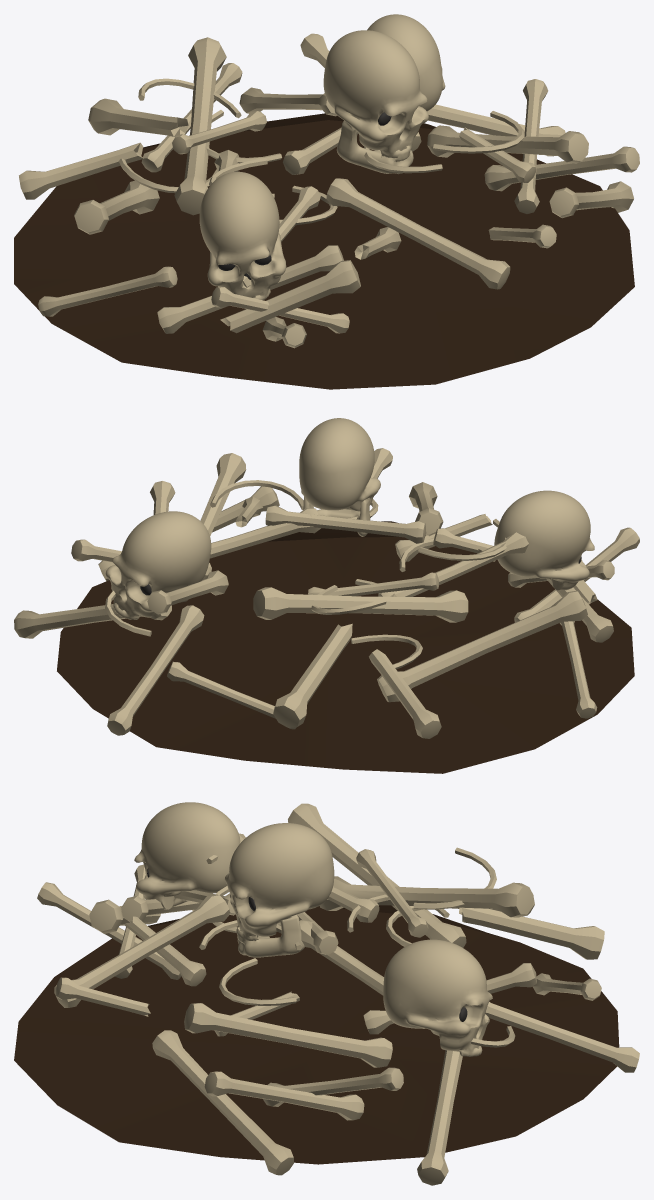
Rendered from knochenhaufen.glb.
3 renders of one model, top to bottom at view 1: azimuth 30°, elevation 25°; view 2: azimuth 150°, elevation 25°; view 3: azimuth 270°, elevation 25°, orthographic. The views are drawn at different scales.
Parts seen in each view (by area): view 1: knochenhaufen; view 2: knochenhaufen; view 3: knochenhaufen.
Part boxes in pixels (x1,y1,x2,y2): knochenhaufen: [14, 14, 639, 389]; knochenhaufen: [14, 418, 639, 773]; knochenhaufen: [14, 802, 639, 1185].
Size of the model in its own units: 1.17 by 0.4657 by 1.12.
